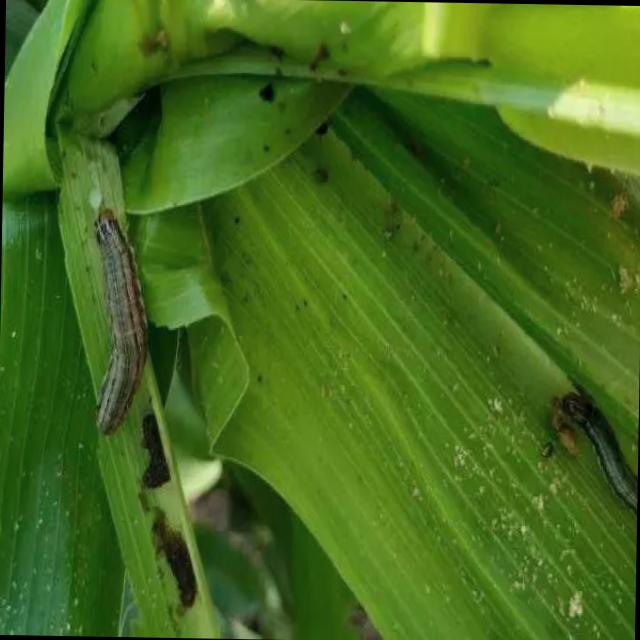pest: (94, 210, 152, 438)
